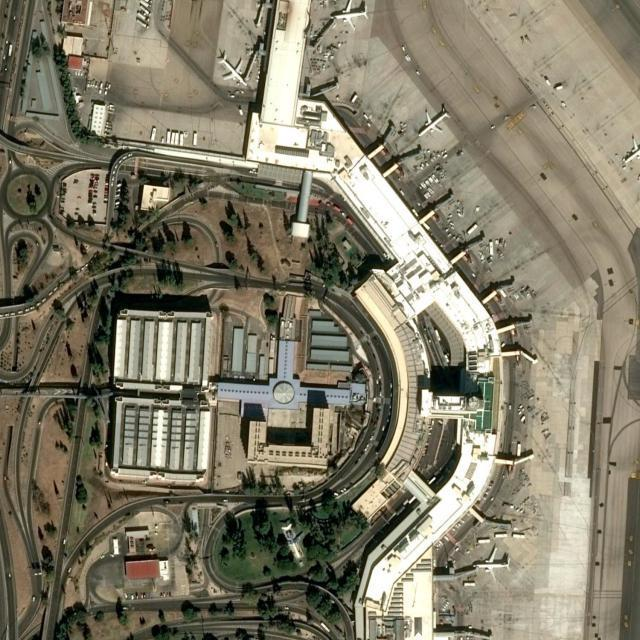Aircraft: (213, 50, 249, 90), (329, 1, 371, 33), (415, 105, 450, 137), (623, 133, 640, 165)
